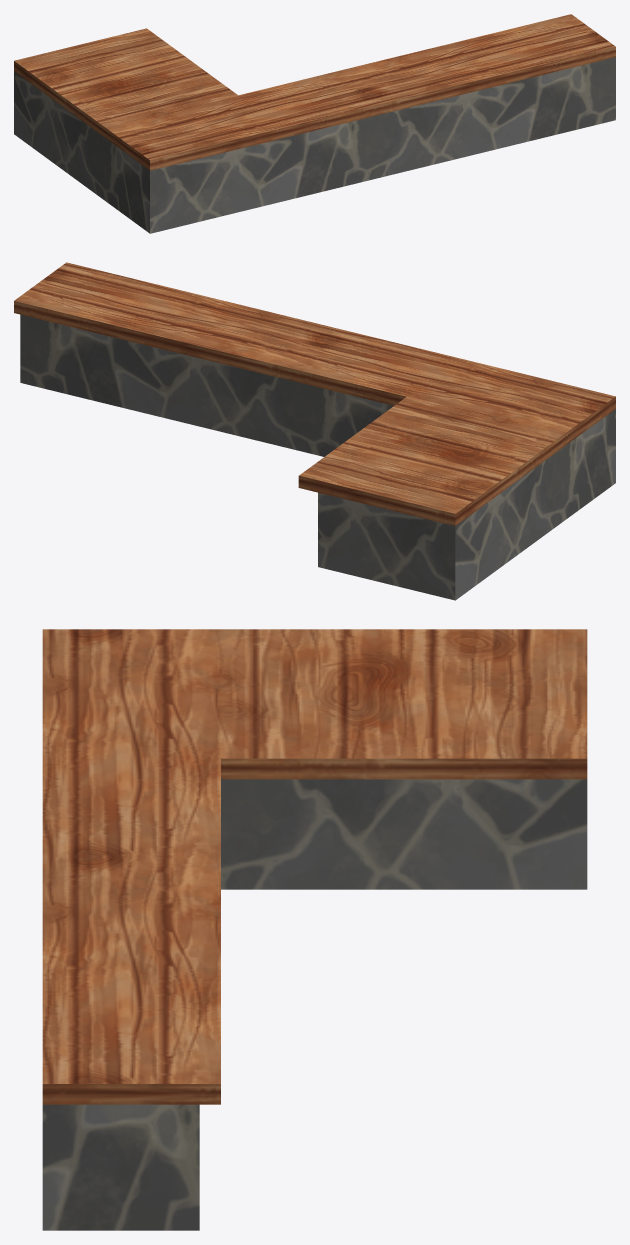
File: kitchen1.glb
3 views of the same model, one above another, from view 1: azimuth 30°, elevation 25°; view 2: azimuth 150°, elevation 25°; view 3: azimuth 270°, elevation 25° (orthographic). The views are drawn at different scales.
Parts seen in each view (by area): view 1: blat, nogi; view 2: blat, nogi; view 3: blat, nogi.
Boxes of the visible parts, box(x1,y1,x2,y2) form: blat: box(14, 14, 615, 170); nogi: box(14, 57, 615, 233); blat: box(14, 262, 615, 525); nogi: box(20, 314, 615, 600); blat: box(42, 629, 587, 1104); nogi: box(42, 779, 587, 1230).
Bounding box in the file's own units: 6.65 × 1 × 3.37.
Materials: 2 (2 with a texture image).
